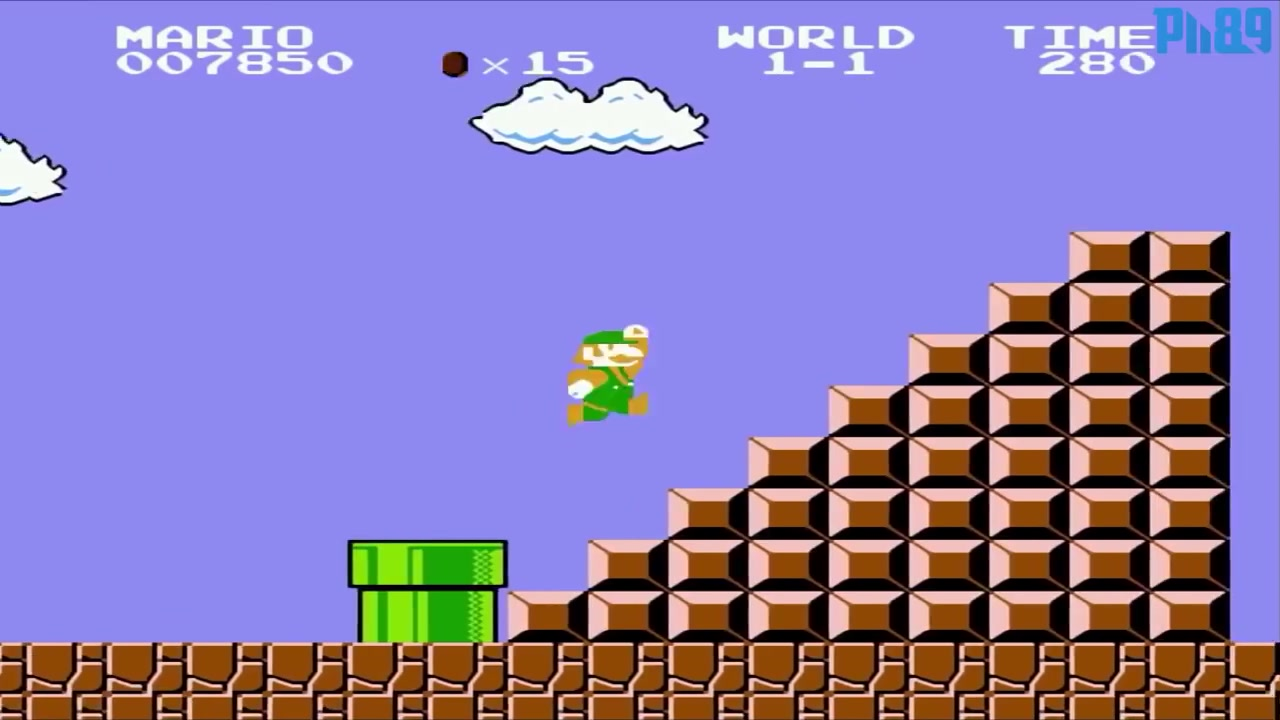mario: (542, 315, 662, 439)
